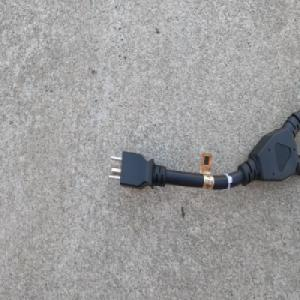Wire: (104, 106, 300, 197)
